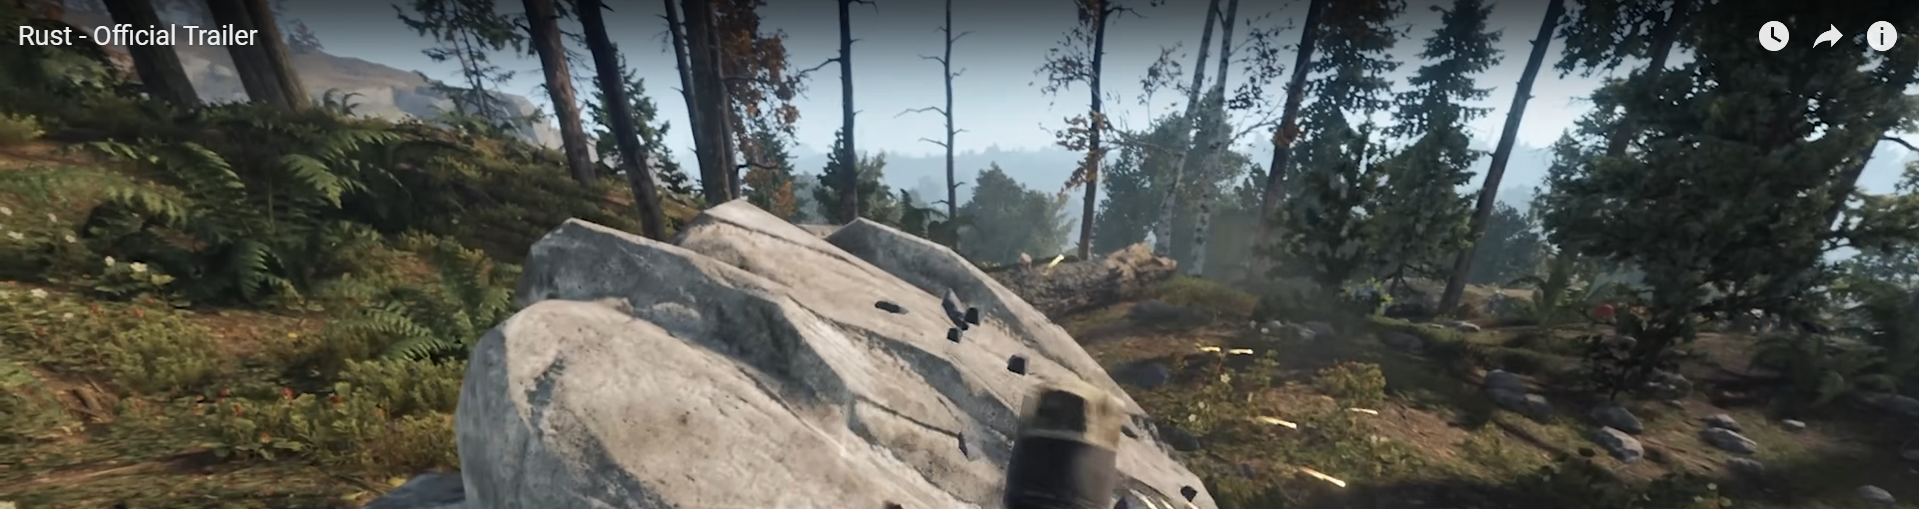tree: (1574, 135, 1779, 401), (1436, 7, 1587, 333), (1242, 1, 1352, 289), (574, 1, 678, 247), (1160, 1, 1240, 283), (490, 1, 601, 188), (669, 1, 753, 210), (922, 1, 986, 258), (807, 1, 876, 221), (228, 1, 357, 110), (1028, 221, 1174, 314), (1068, 1, 1111, 268), (129, 1, 217, 103), (1392, 139, 1422, 300), (1325, 184, 1362, 292)
